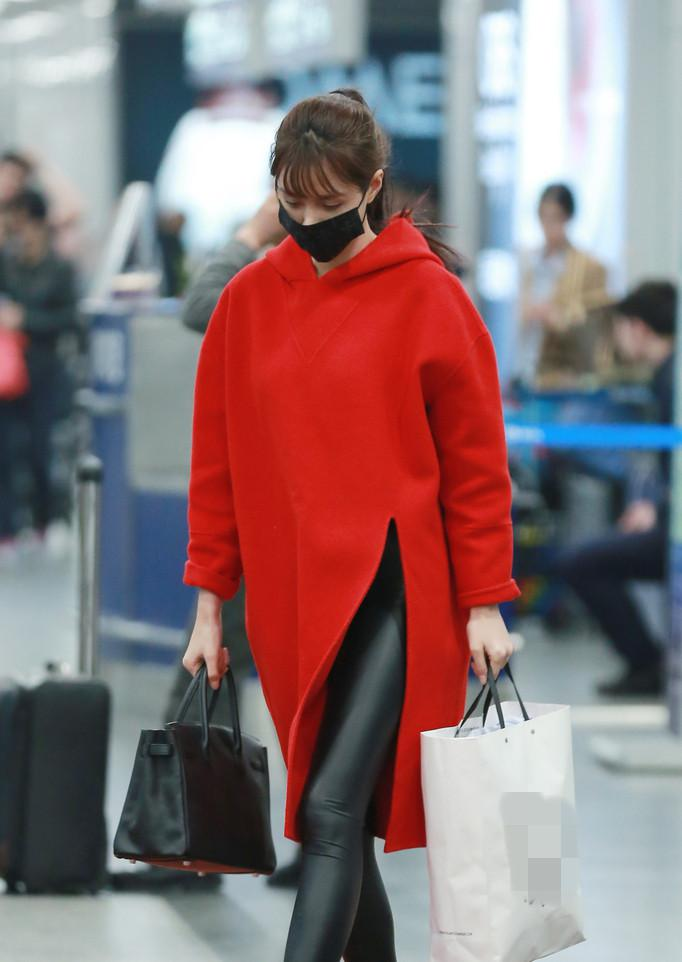WRONG: (276, 173, 360, 262)
